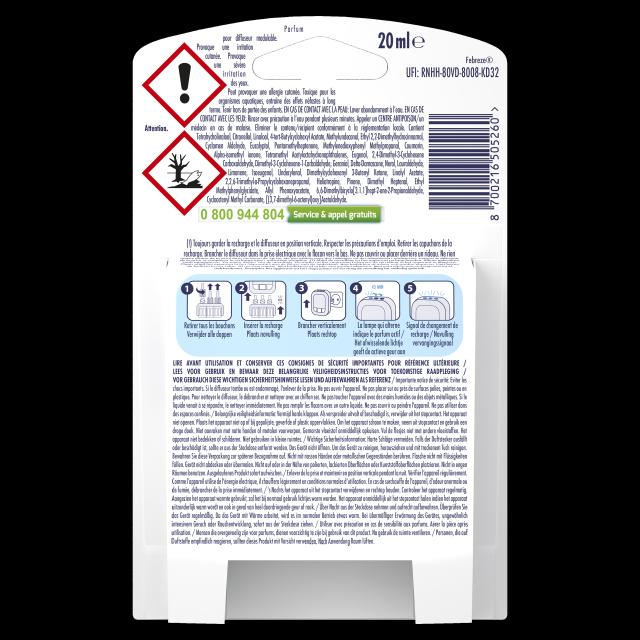GHS_Symbol_ENVIRONMENT: (143, 131, 226, 216)
GHS_Symbol_EXCLAMATION_MARK: (141, 43, 226, 128)
